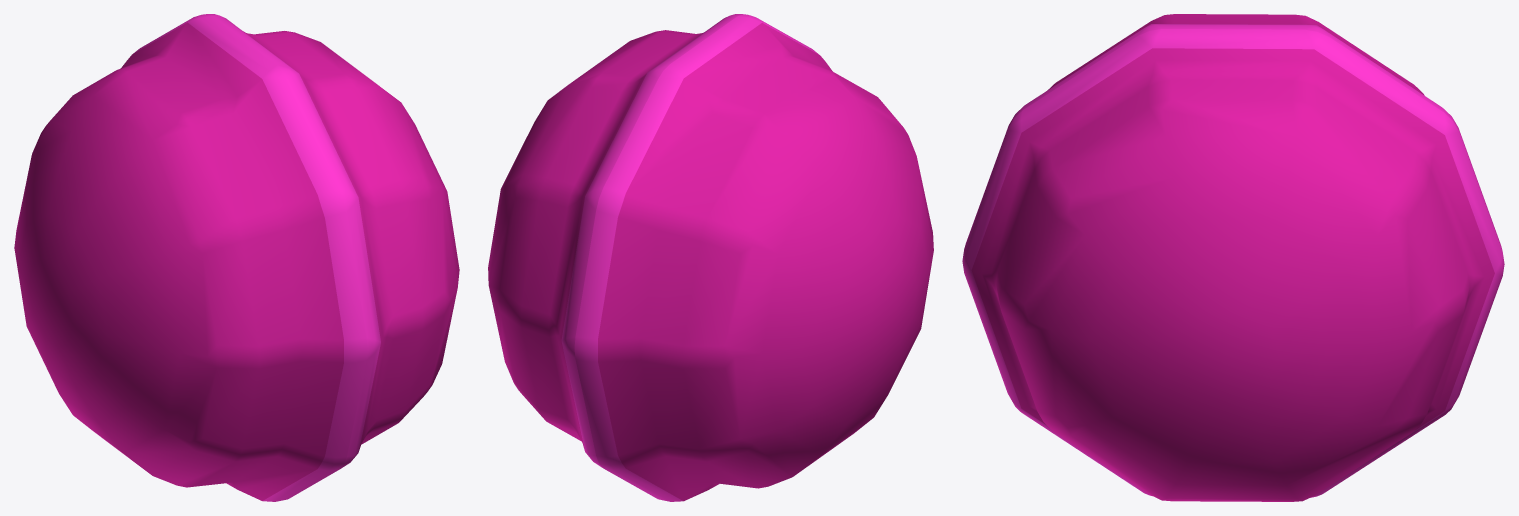
The model's file is LollipopPinkCandy.fbx.
3 views of the same model, side by side, from view 1: azimuth 30°, elevation 25°; view 2: azimuth 150°, elevation 25°; view 3: azimuth 270°, elevation 25° (orthographic). The views are drawn at different scales.
Parts seen in each view (by area): view 1: LollipopCandy; view 2: LollipopCandy; view 3: LollipopCandy.
Boxes of the visible parts, <box> form: LollipopCandy: <box>14,14,459,501</box>; LollipopCandy: <box>488,14,933,501</box>; LollipopCandy: <box>962,14,1504,501</box>.
Size of the model in its own units: 100 by 111 by 117.
